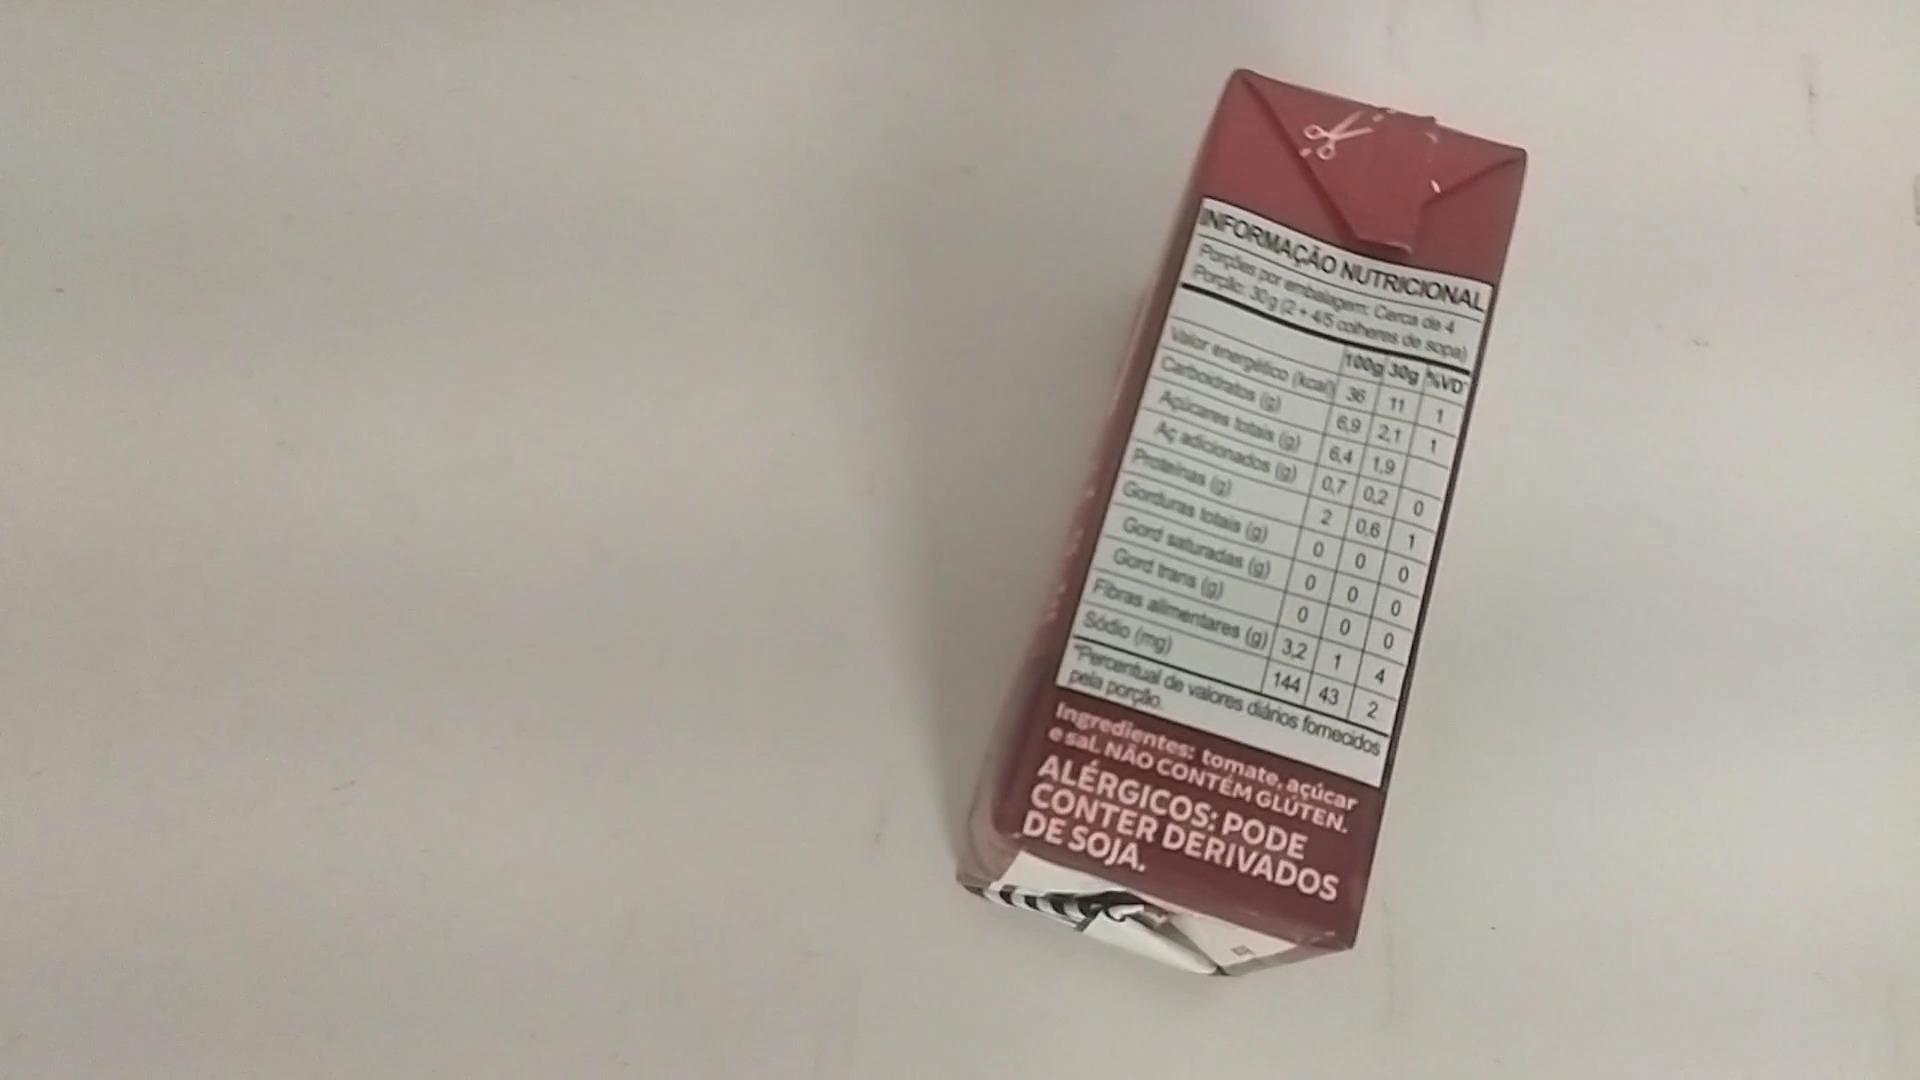tomate: (860, 37, 1862, 1004)
